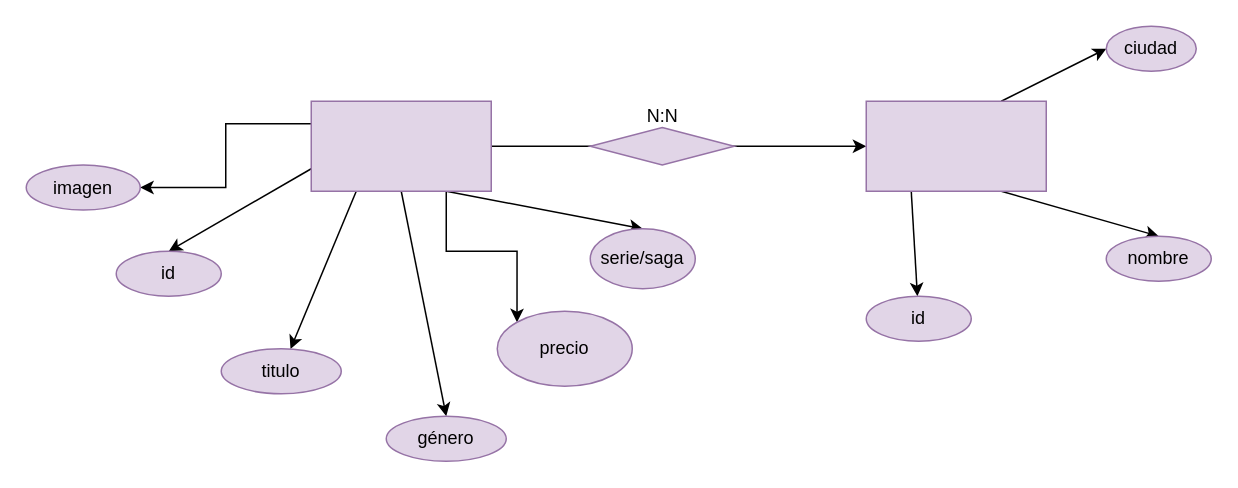
The diagram is 1238 pixels wide and 488 high, and some of its shapes have lost their labels. The shapes that lost their labels are listed below. From the top down, each one's centre as x and y in pixels, then its label:
At (400,145): "Manga".
At (661,145): "escribe".
At (955,145): "Autor".
